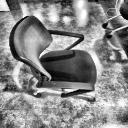chair_success: (8, 15, 103, 103)
